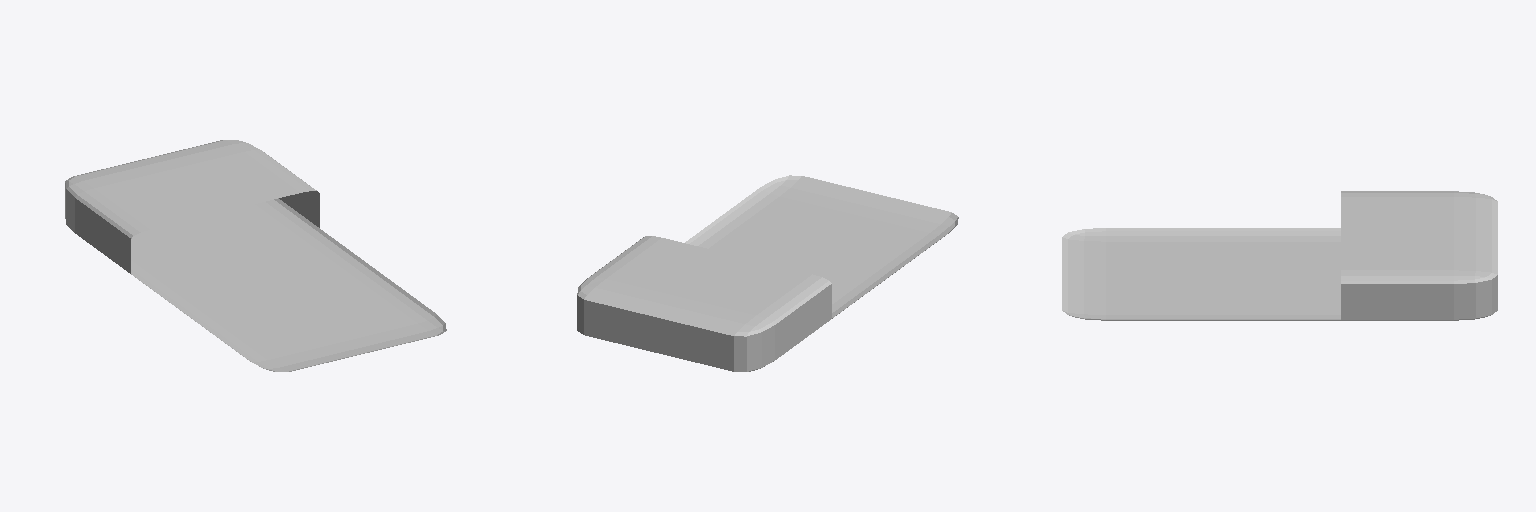
File: colchao.obj
3 views of the same model, side by side, from view 1: azimuth 30°, elevation 25°; view 2: azimuth 150°, elevation 25°; view 3: azimuth 270°, elevation 25° (orthographic).
Parts seen in each view (by area): view 1: Colchao_Cube.005; view 2: Colchao_Cube.005; view 3: Colchao_Cube.005.
Boxes of the visible parts, x1=… form: Colchao_Cube.005: x1=65, y1=140, x2=446, y2=371; Colchao_Cube.005: x1=577, y1=175, x2=958, y2=371; Colchao_Cube.005: x1=1062, y1=191, x2=1497, y2=320.
Bounding box in the file's own units: 2.07 × 0.4685 × 4.15.